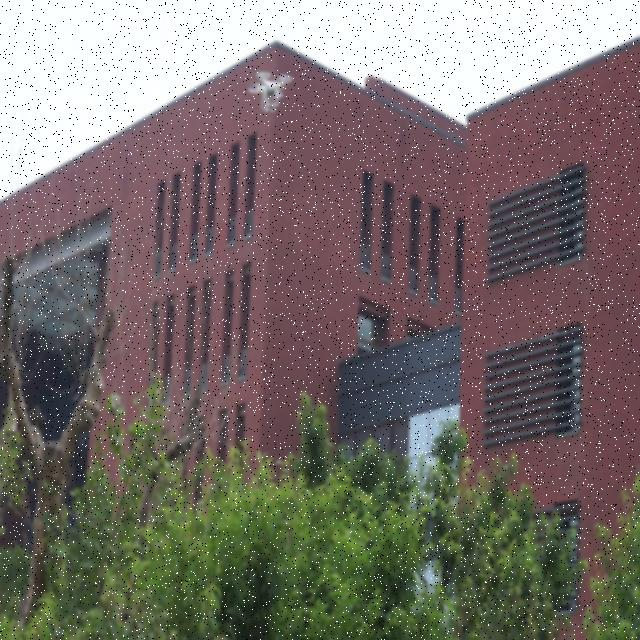UAV: (248, 72, 293, 112)
